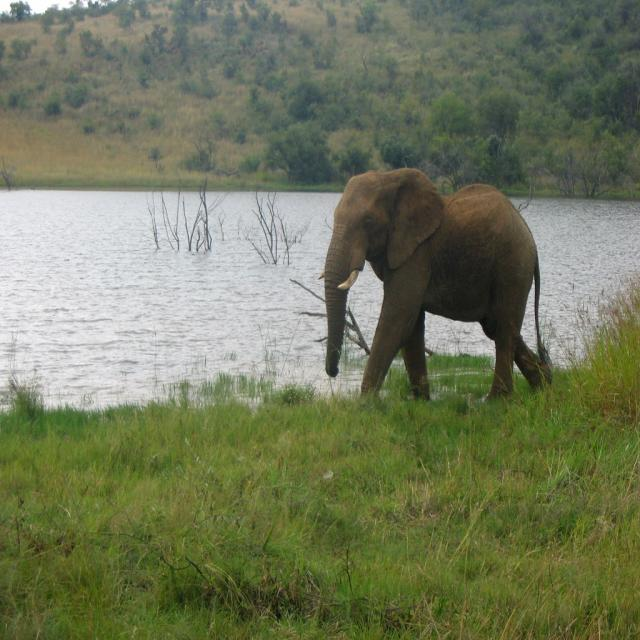elephant: (314, 165, 551, 407)
